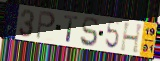3: (18, 9, 36, 39)
5: (104, 19, 122, 50)
H: (120, 22, 145, 55)
P: (35, 10, 57, 41)
S: (79, 16, 99, 48)
T: (63, 15, 79, 44)
